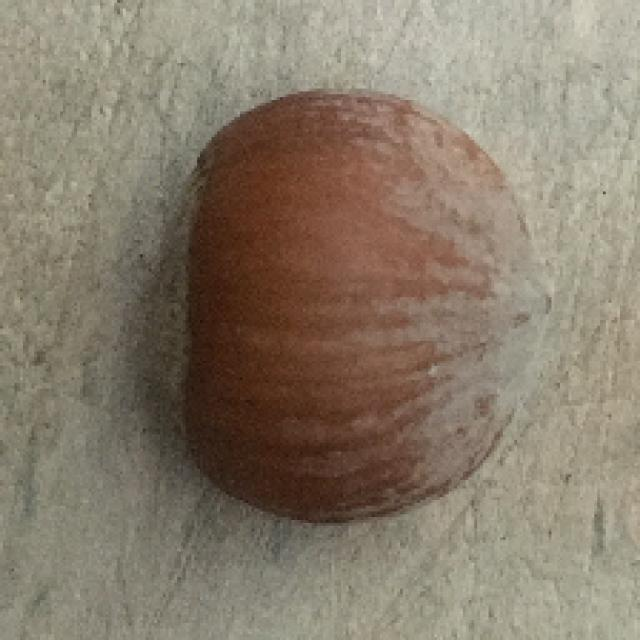qualityHazelnut: (134, 84, 560, 529)
